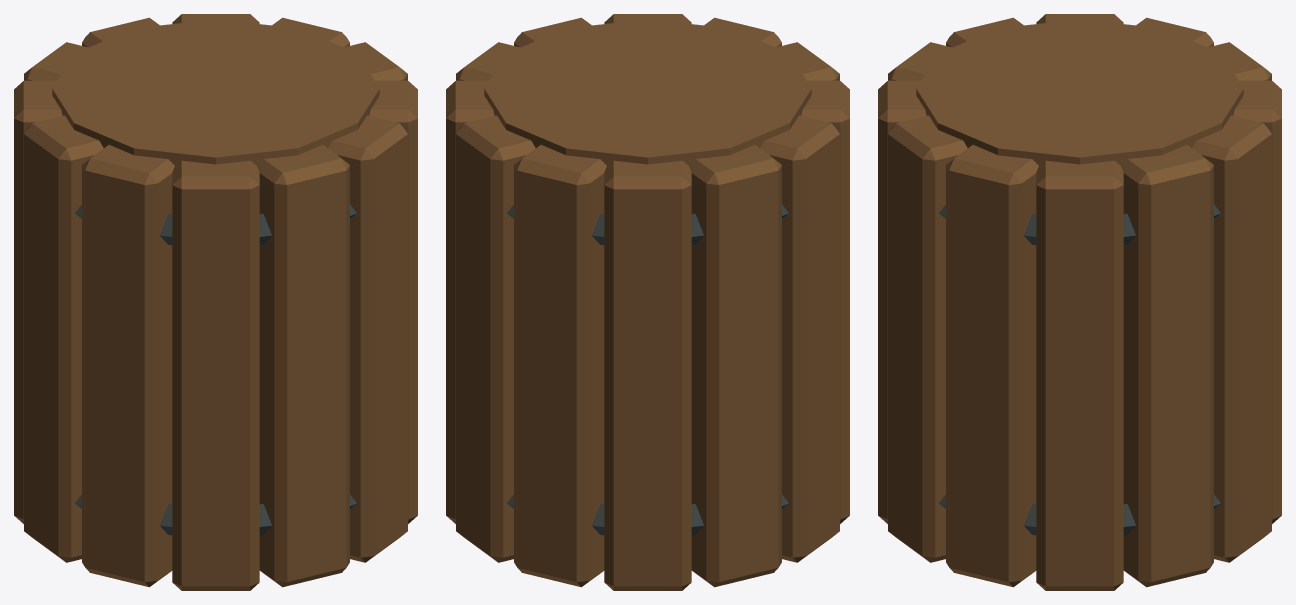
The model's file is barrel.glb.
3 renders of one model, left to right at view 1: azimuth 30°, elevation 25°; view 2: azimuth 150°, elevation 25°; view 3: azimuth 270°, elevation 25°, orthographic.
Visible parts, largest first — view 1: barrel; view 2: barrel; view 3: barrel.
Boxes of the visible parts, x1,y1,x2,y2 form: barrel: [14, 14, 417, 590]; barrel: [446, 14, 849, 590]; barrel: [878, 14, 1281, 590].
Bounding box in the file's own units: 1.06 × 1.22 × 1.06.
